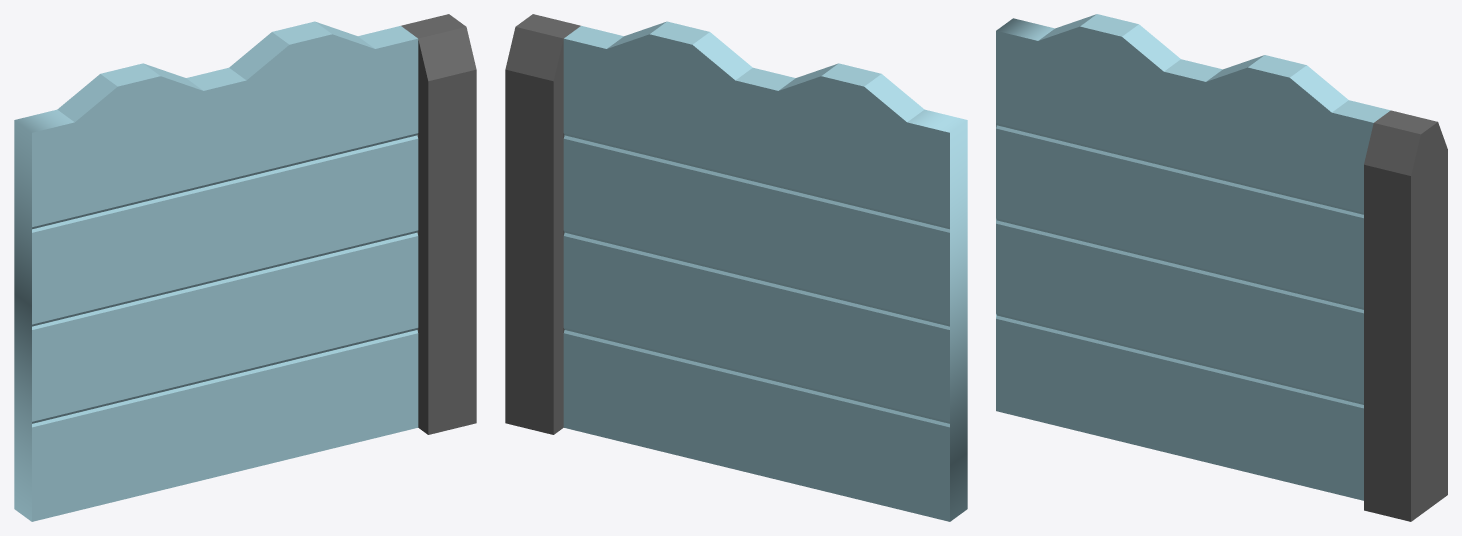
File: Mauer2.fbx
The picture shows the model from 3 angles, left to right: view 1: azimuth 30°, elevation 25°; view 2: azimuth 150°, elevation 25°; view 3: azimuth 330°, elevation 25°; orthographic projection. The views are drawn at different scales.
Visible parts, largest first — view 1: Mauer; view 2: Mauer; view 3: Mauer.
Part boxes in pixels (x1,y1,x2,y2): Mauer: [14, 14, 476, 521]; Mauer: [505, 14, 967, 521]; Mauer: [996, 14, 1447, 521].
Size of the model in its own units: 900 by 820 by 135.
